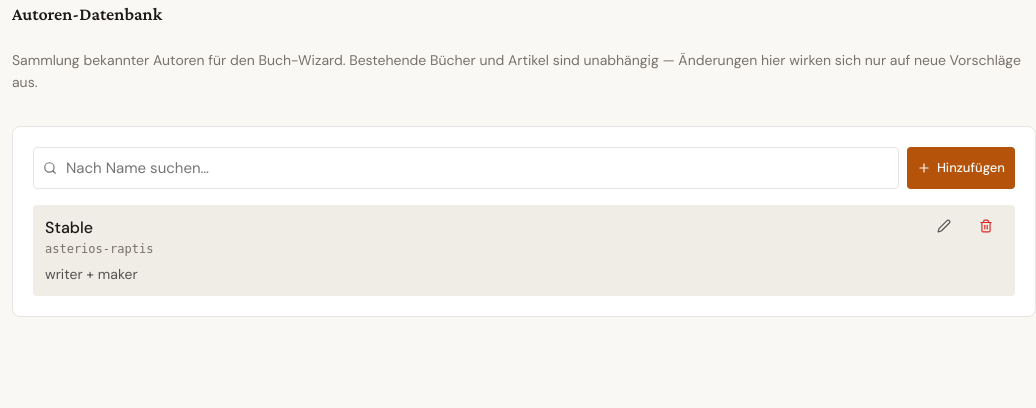
Test: AuthorsDatabase › cancel edit reverts the row to view mode
This screenshot has width=1036, height=408.
Check: the element with test id "authors-database-row-a1" is shown, box x1=33 y1=205 x2=1015 y2=296
Click the button with test id "authors-database-row-edit-a1": x=944, y=226 x1=927 y1=215 x2=961 y2=237
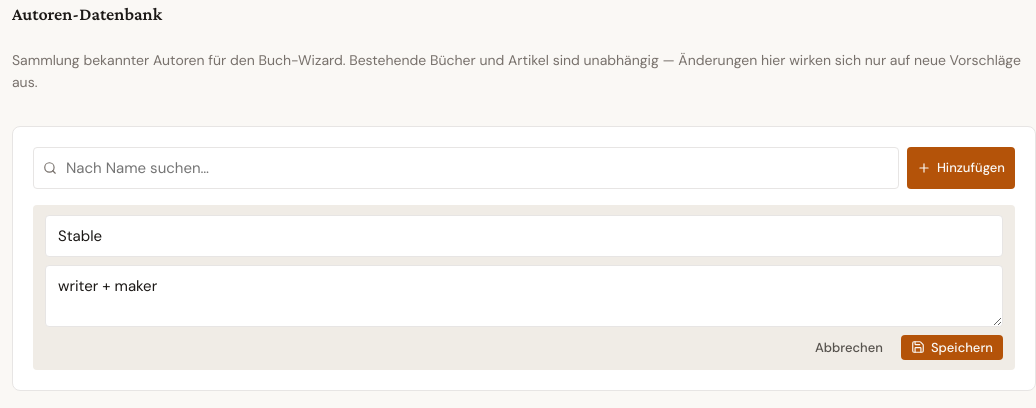
Check: the field with test id "authors-database-row-name-a1" is shown, box x1=45 y1=215 x2=1003 y2=257
Click the button with test id "authors-database-row-cancel-a1": x=849, y=347 x1=805 y1=335 x2=893 y2=360
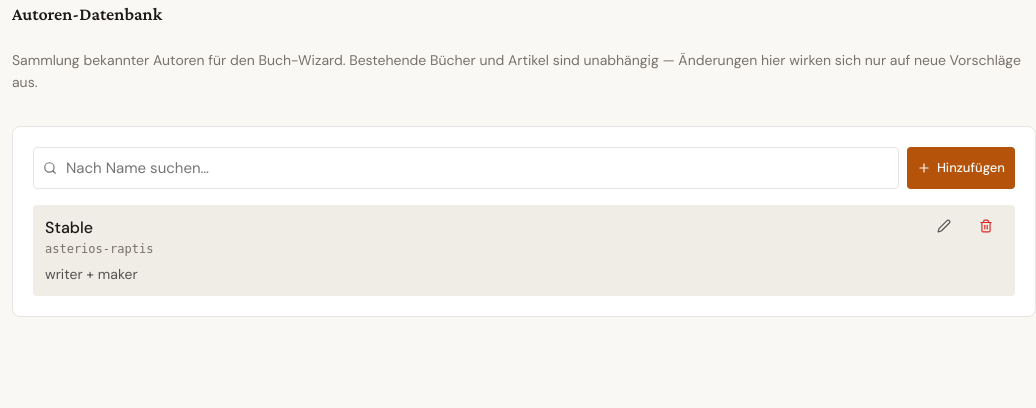
Check: the field with test id "authors-database-row-name-a1" is gone
